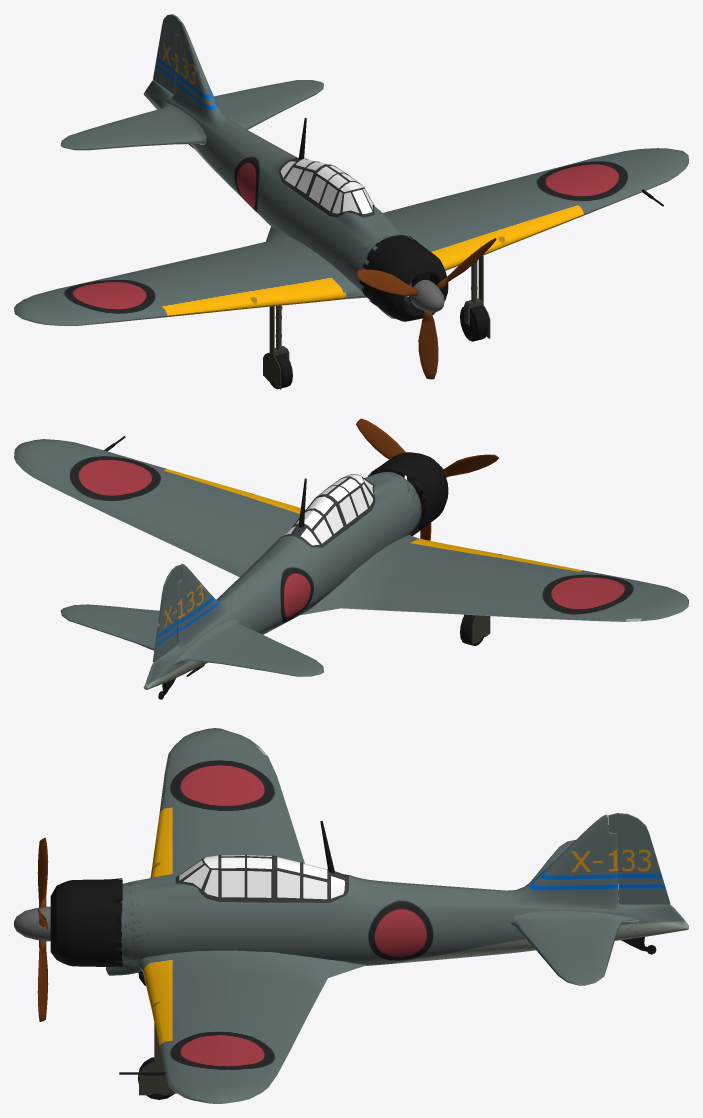
The picture shows the model from 3 angles, top to bottom: view 1: azimuth 30°, elevation 25°; view 2: azimuth 150°, elevation 25°; view 3: azimuth 270°, elevation 25°; orthographic projection. The views are drawn at different scales.
Parts seen in each view (by area): view 1: Circle.001, Circle, Circle.002, Plane.001, Cylinder.001, Plane.003, Plane.005, Plane.004, Cube.005, Cube.002, Circle.003, Cylinder.003; view 2: Circle.001, Circle, Circle.002, Plane.001, Plane.003, Cylinder.001, Plane.005, Plane.004, Cube.005; view 3: Circle.001, Circle, Circle.002, Plane.001, Plane.003, Plane.005, Plane.004, Cylinder.001, Cube.002, Plane.002, Circle.003.
Boxes of the visible parts, <box> form: Circle.001: <box>14,148,688,325</box>; Circle: <box>143,21,412,318</box>; Circle.002: <box>60,80,323,150</box>; Plane.001: <box>368,235,448,321</box>; Cylinder.001: <box>357,238,496,379</box>; Plane.003: <box>278,158,374,217</box>; Plane.005: <box>153,14,181,94</box>; Plane.004: <box>306,164,360,215</box>; Cube.005: <box>263,305,289,389</box>; Cube.002: <box>464,255,490,338</box>; Circle.003: <box>410,280,444,312</box>; Cylinder.003: <box>460,306,487,341</box>; Circle.001: <box>14,439,688,621</box>; Circle: <box>143,472,421,689</box>; Circle.002: <box>60,604,323,676</box>; Plane.001: <box>372,452,448,535</box>; Plane.003: <box>280,474,375,547</box>; Cylinder.001: <box>356,418,498,540</box>; Plane.005: <box>152,565,181,662</box>; Plane.004: <box>317,476,370,529</box>; Cube.005: <box>464,614,490,644</box>; Circle.001: <box>137,728,367,1103</box>; Circle: <box>106,814,688,975</box>; Circle.002: <box>511,840,639,985</box>; Plane.001: <box>50,879,122,966</box>; Plane.003: <box>175,855,348,902</box>; Plane.005: <box>608,813,670,904</box>; Plane.004: <box>218,854,274,902</box>; Cylinder.001: <box>37,837,48,1021</box>; Cube.002: <box>139,1023,176,1095</box>; Plane.002: <box>106,878,122,965</box>; Circle.003: <box>14,906,50,941</box>.
Bounding box in the file's own units: 383 × 109 × 292.
Materials: 11 (3 with a texture image).
